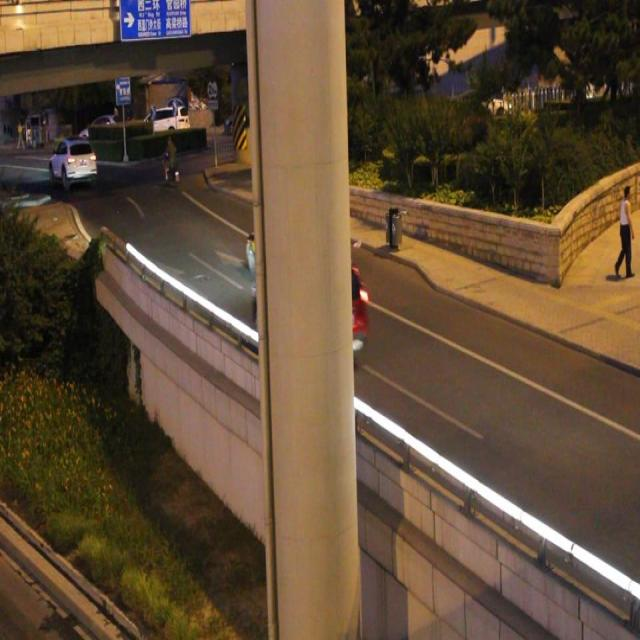car: (252, 246, 366, 358), (245, 205, 334, 288)
